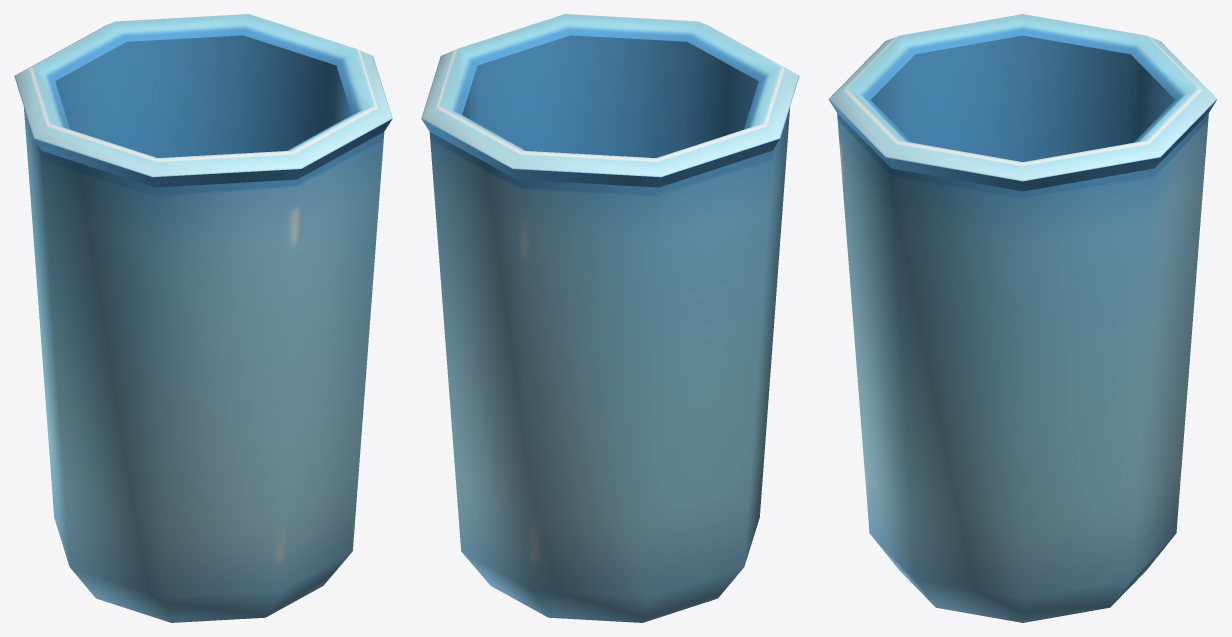
File: bathroom_cup.fbx
The picture shows the model from 3 angles, left to right: view 1: azimuth 30°, elevation 25°; view 2: azimuth 150°, elevation 25°; view 3: azimuth 270°, elevation 25°; orthographic projection.
Parts seen in each view (by area): view 1: bathroom_cup; view 2: bathroom_cup; view 3: bathroom_cup.
Part boxes in pixels (x1=…): bathroom_cup: x1=14, y1=14, x2=392, y2=622; bathroom_cup: x1=421, y1=14, x2=799, y2=622; bathroom_cup: x1=828, y1=14, x2=1217, y2=622.
Size of the model in its own units: 11.56 by 16.08 by 11.56.
